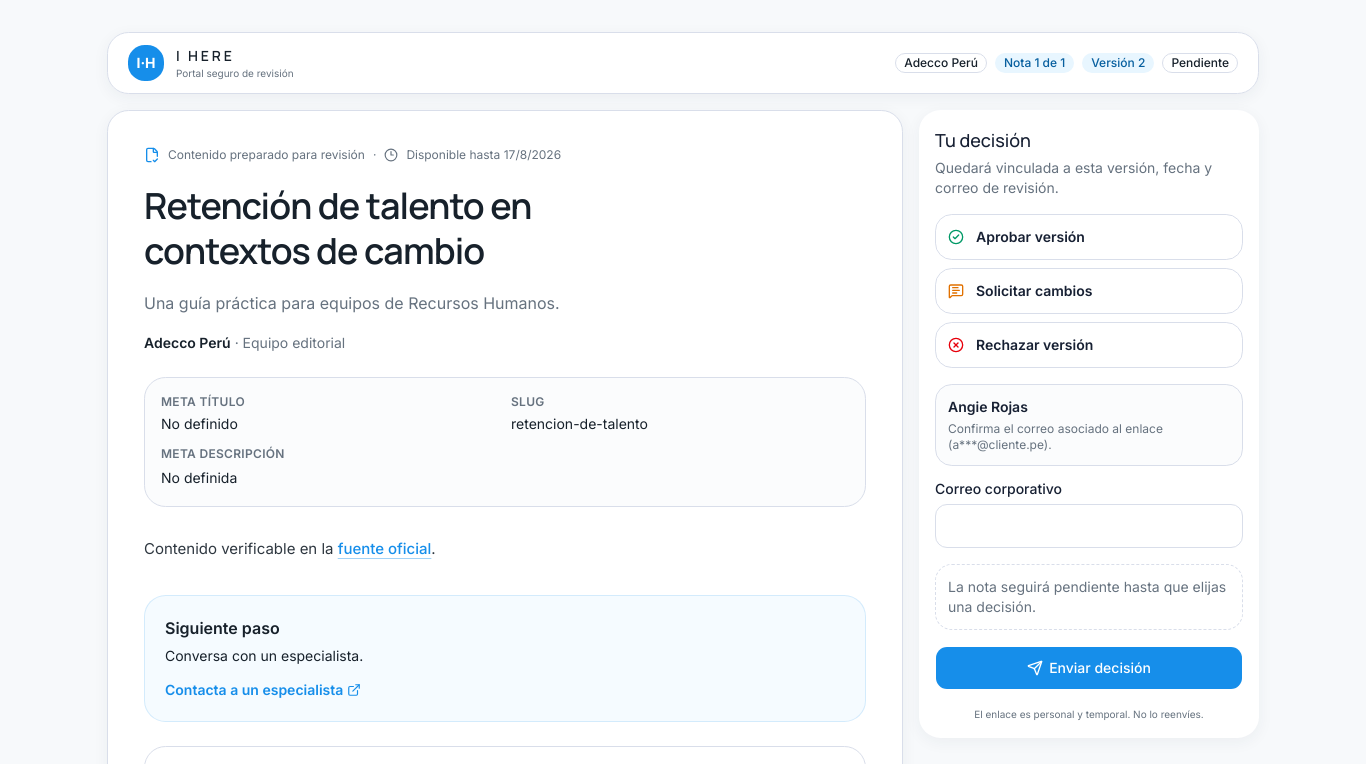
Test case: ReviewPortal › registra una decisión vinculada al token y confirma el resultado
The image size is (1366, 764).
Click the button "Aprobar versión" at (1030, 236), box [935,214,1243,260]
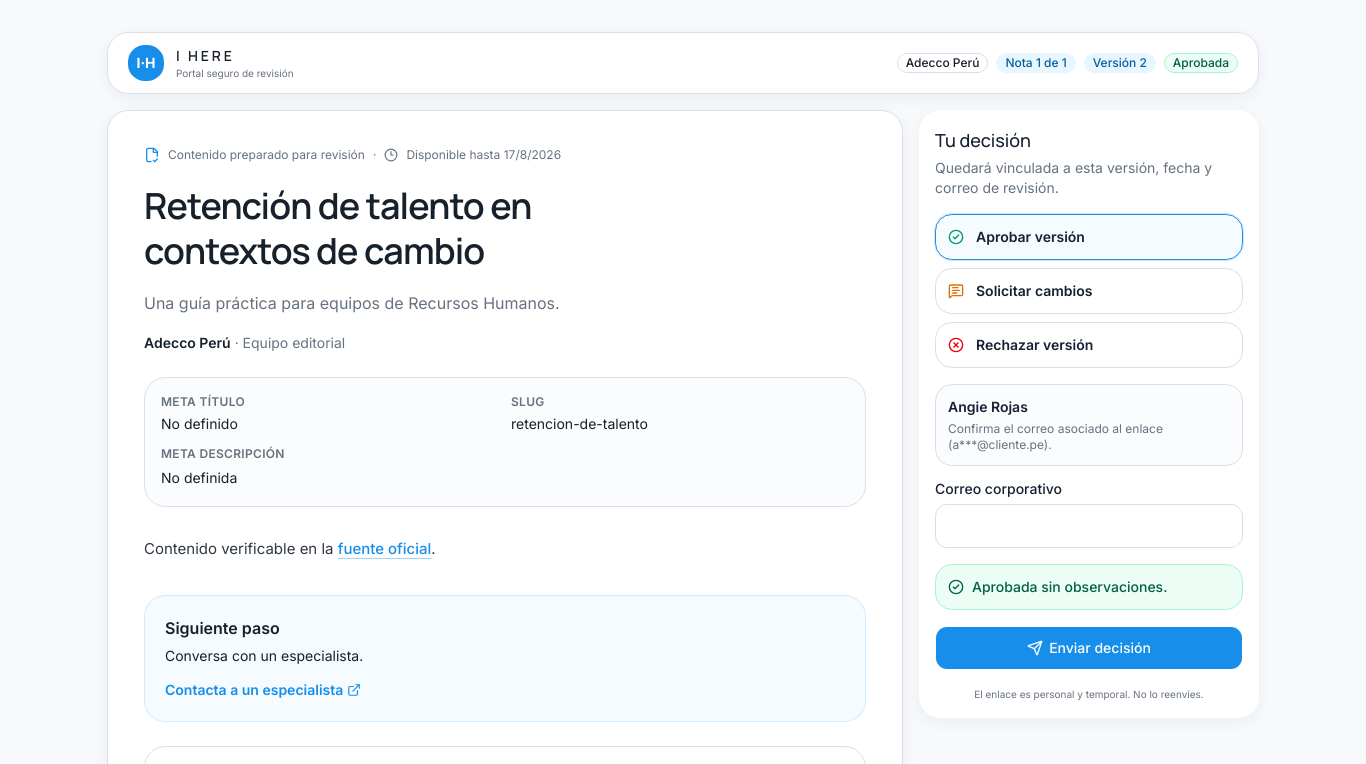
Type "angie@cliente.pe" into the field labelled "Correo corporativo" at (1089, 526), box [935,504,1243,548]
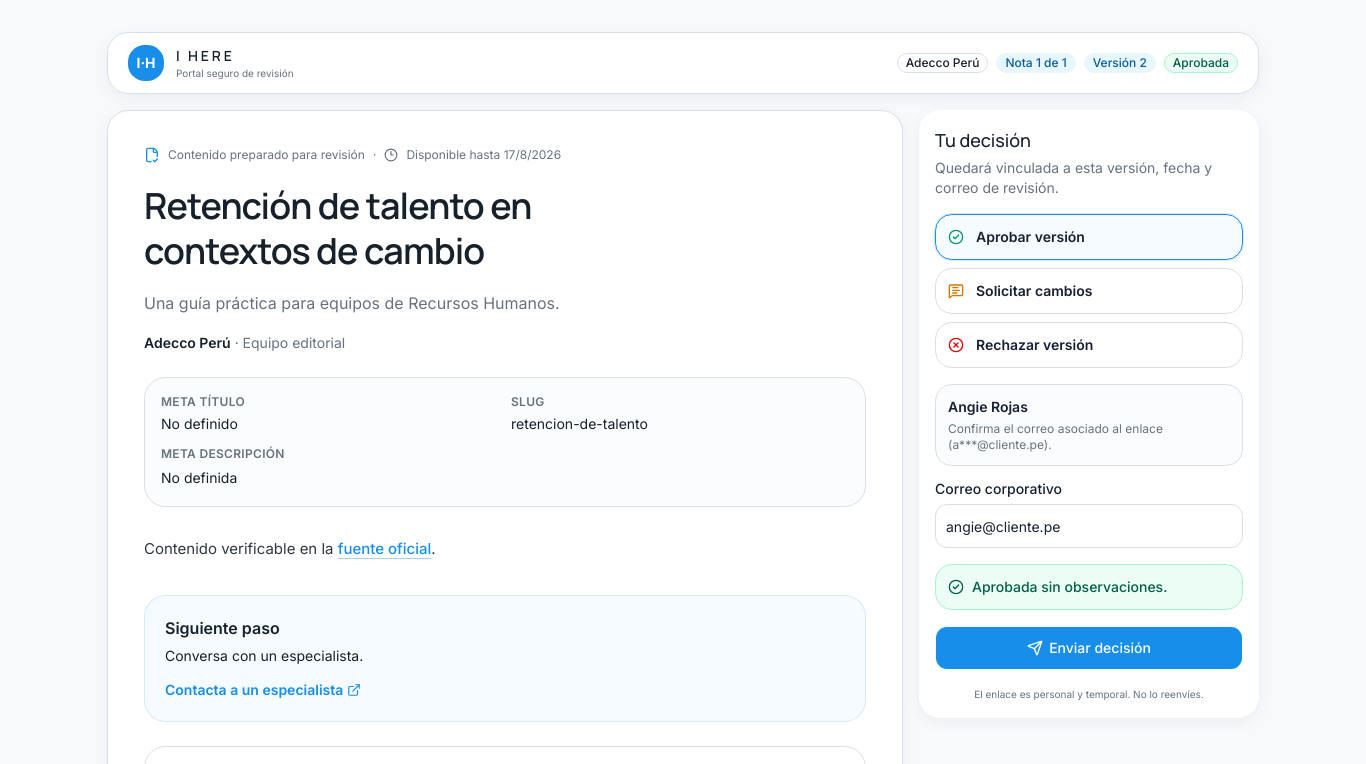
Click the button "Enviar decisión" at (1089, 648), box [935,626,1243,670]
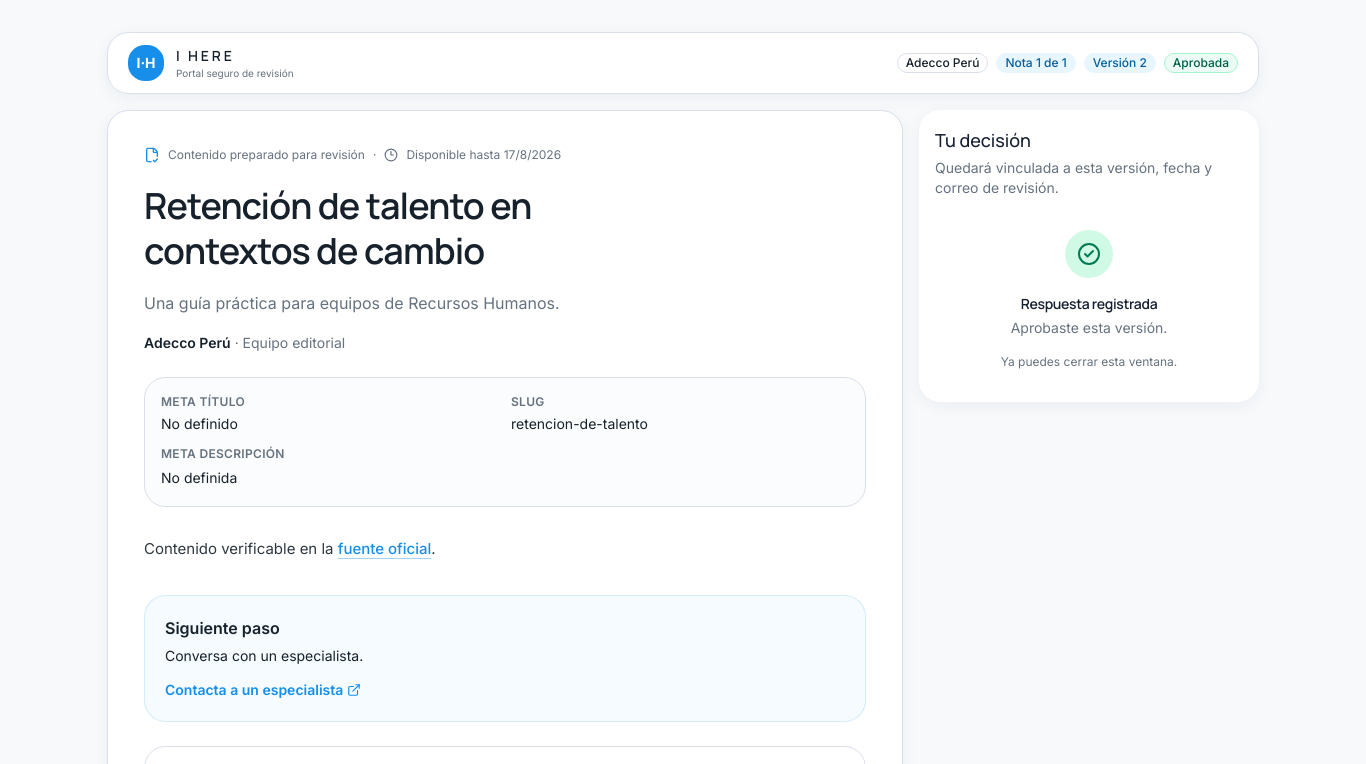
Expected: the heading "Respuesta registrada" is shown, [1021,294,1157,313]
